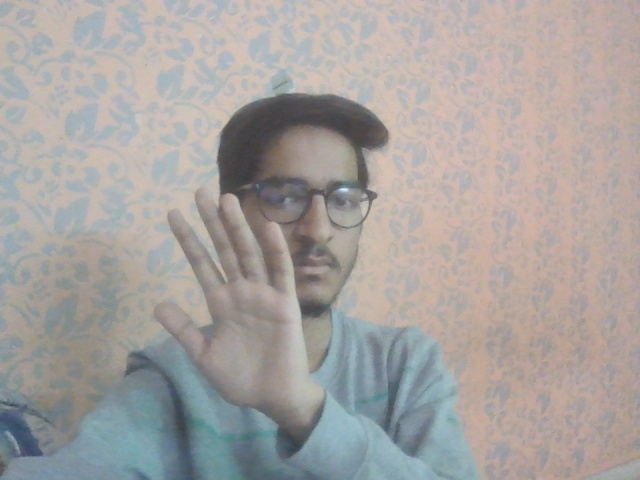Hello: (147, 181, 317, 417)
